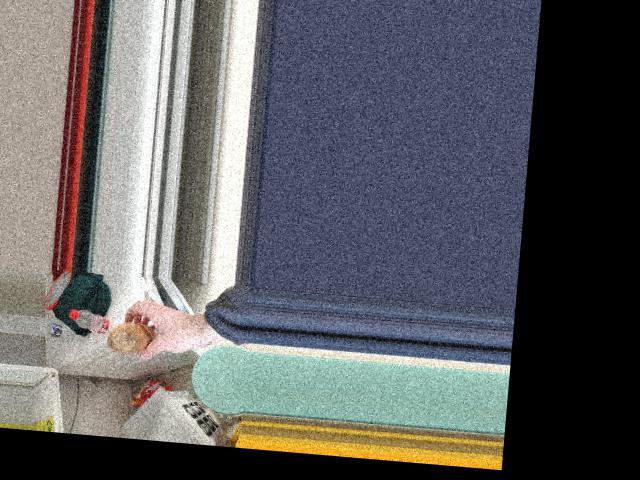sweet_potato: (103, 317, 160, 361)
